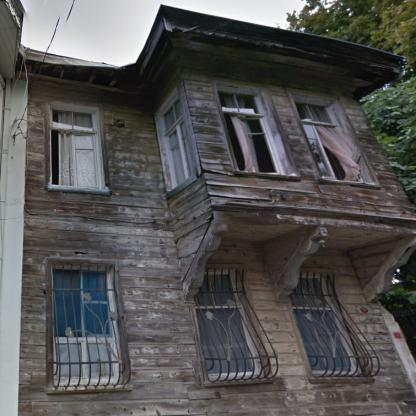window: (53, 269, 117, 382), (195, 275, 255, 377), (290, 277, 352, 373), (294, 101, 362, 182), (217, 92, 280, 173), (52, 112, 98, 187), (162, 97, 191, 188)
